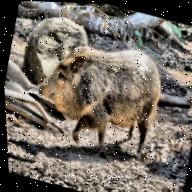boar: (23, 23, 185, 175)
